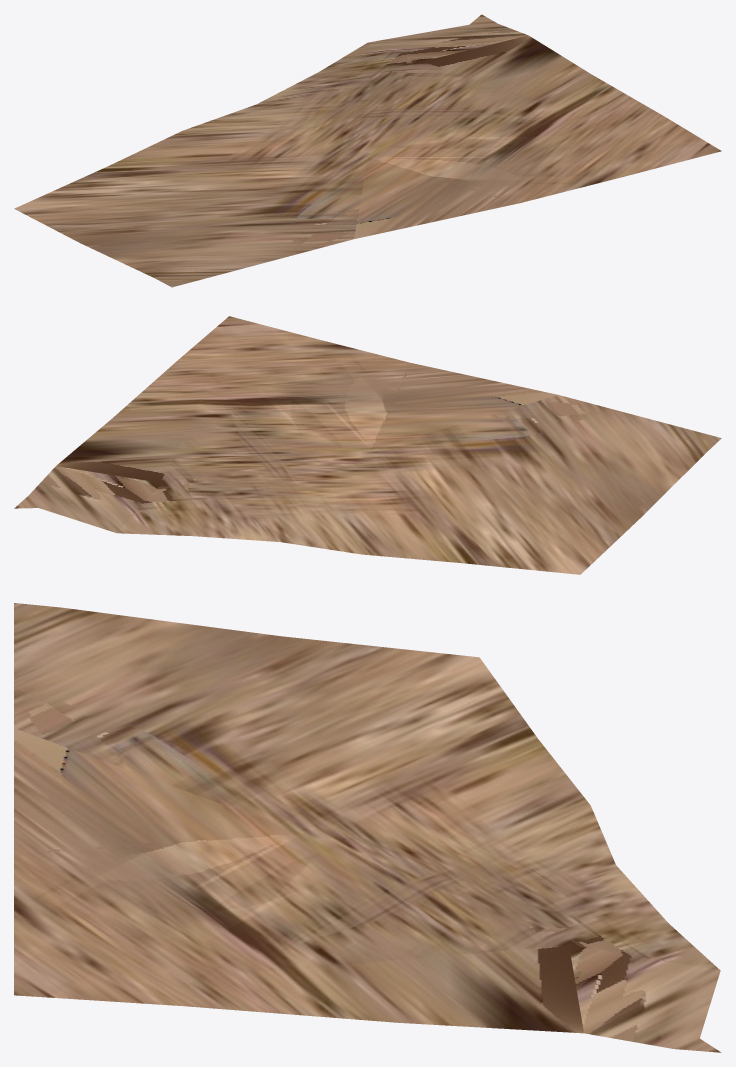
3 renders of one model, top to bottom at view 1: azimuth 30°, elevation 25°; view 2: azimuth 150°, elevation 25°; view 3: azimuth 270°, elevation 25°, orthographic. The views are drawn at different scales.
Bounding box in the file's own units: 2.09 × 0.1479 × 1.58.
Materials: 2 (2 with a texture image).
